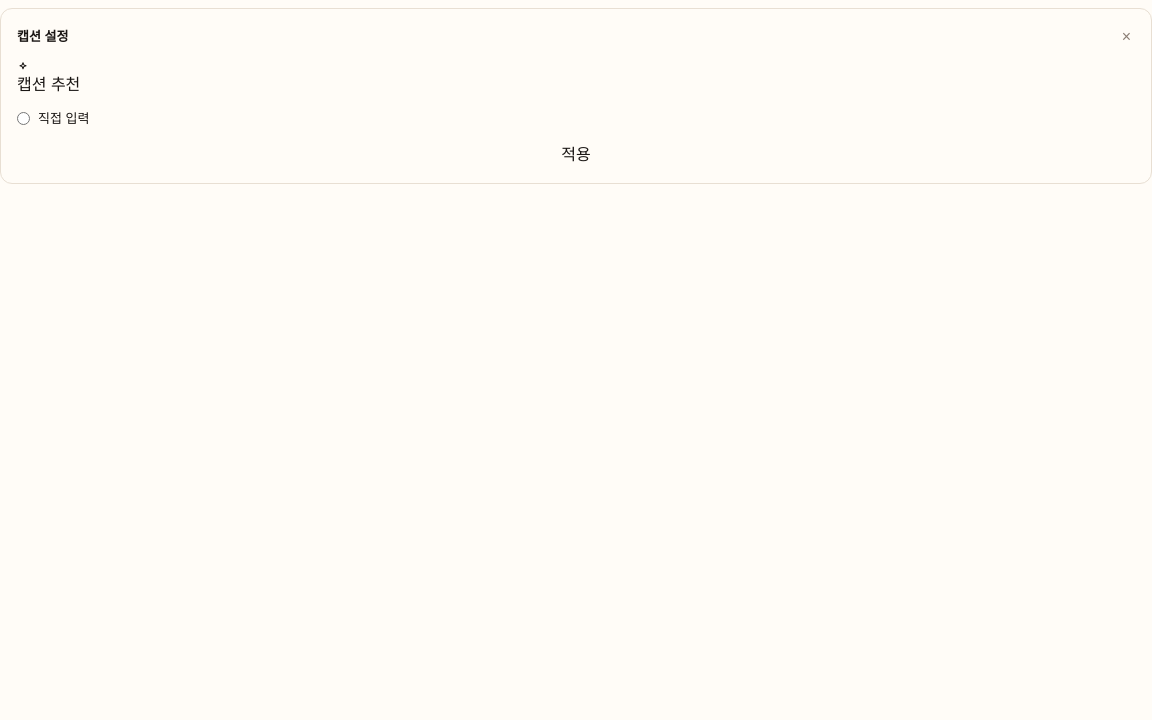
it: CaptionSelector › source=ai → "자동 추천" 배지 표시
Click the button "캡션 추천" at (49, 79), box 17,61 -> 80,97
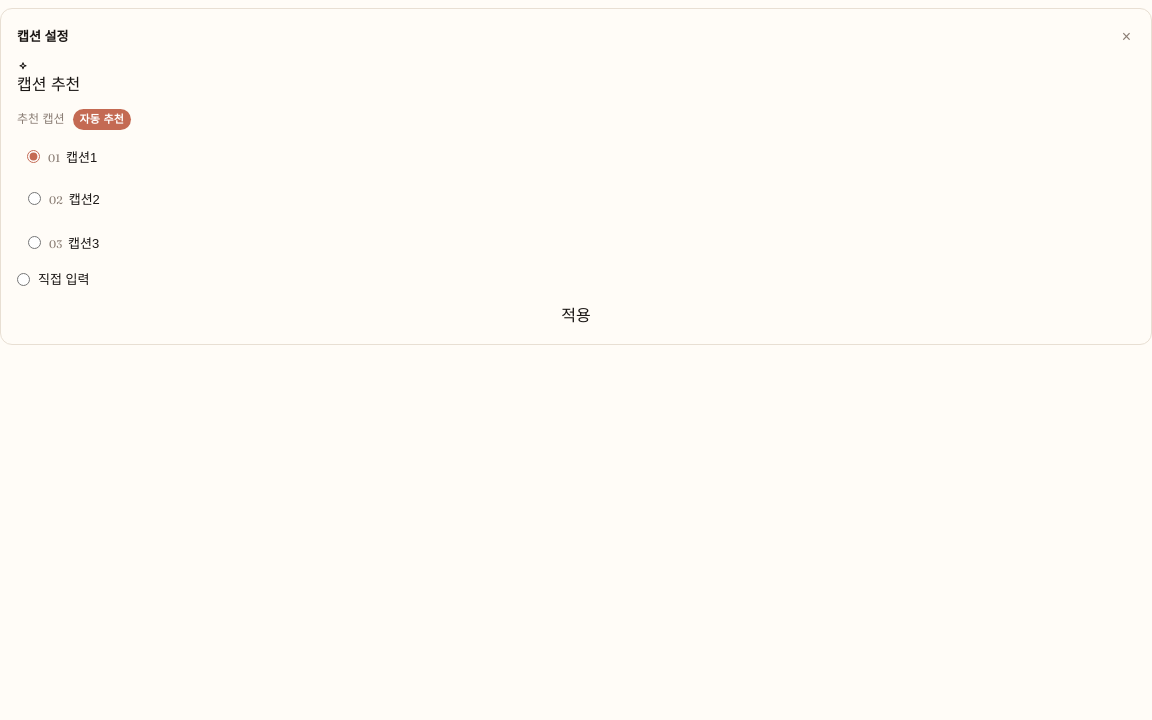
Check: the text "자동 추천" is shown, box 72,109 -> 131,130
